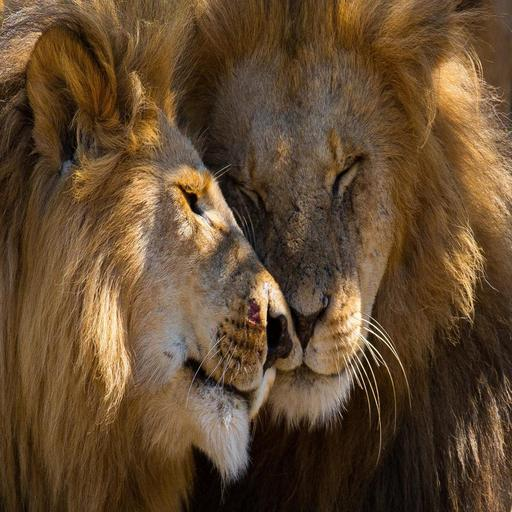Lion: (116, 0, 512, 512), (0, 0, 298, 512)
